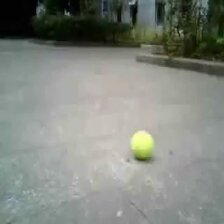tennis: (131, 132, 153, 156)
